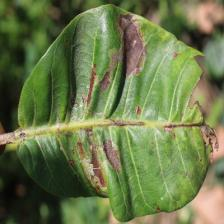leaf miner: (67, 124, 129, 199), (64, 50, 119, 119), (114, 12, 149, 84)
